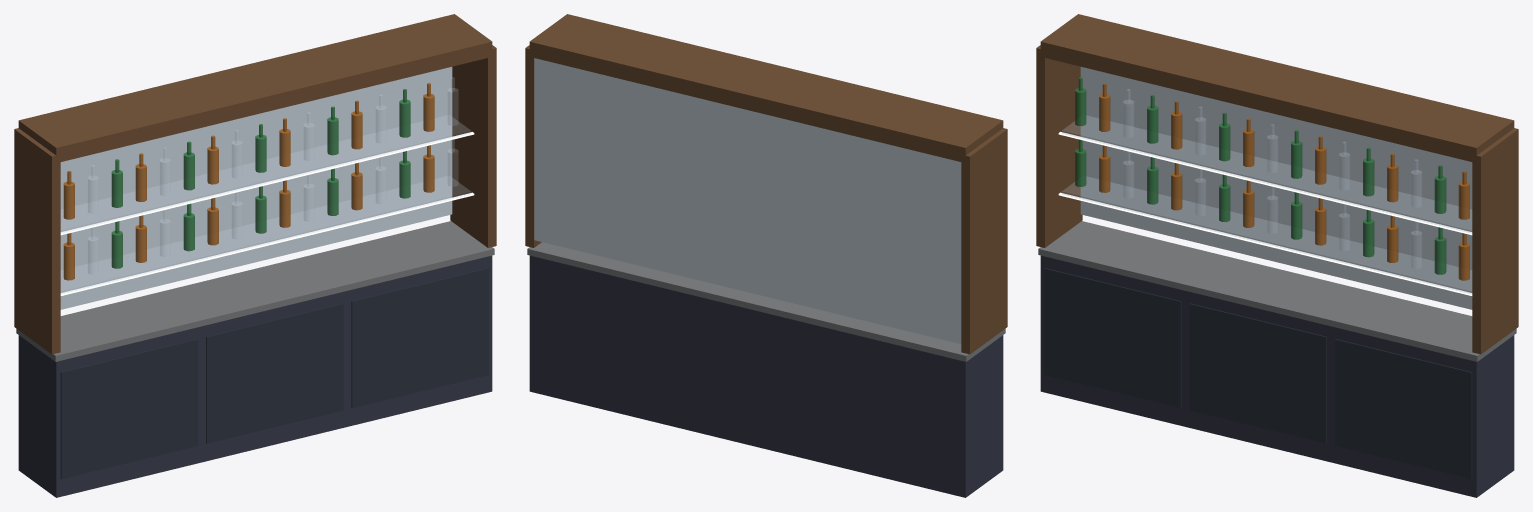
The model's file is hsp-014.glb.
The picture shows the model from 3 angles, left to right: view 1: azimuth 30°, elevation 25°; view 2: azimuth 150°, elevation 25°; view 3: azimuth 330°, elevation 25°; orthographic projection.
Visible parts, largest first — view 1: dark_steel, mirror, glass_tinted, walnut, glass_clear, stone_top, bottle_amber, bottle_green, lamp; view 2: mirror, dark_steel, walnut, stone_top; view 3: dark_steel, mirror, glass_tinted, walnut, glass_clear, stone_top, bottle_green, bottle_amber, lamp.
Part boxes in pixels (x1=…): dark_steel: x1=18, y1=255, x2=492, y2=497; mirror: x1=60, y1=67, x2=452, y2=309; glass_tinted: x1=60, y1=268, x2=488, y2=479; walnut: x1=14, y1=14, x2=496, y2=354; glass_clear: x1=61, y1=78, x2=470, y2=293; stone_top: x1=16, y1=221, x2=494, y2=361; bottle_amber: x1=63, y1=83, x2=434, y2=280; bottle_green: x1=111, y1=89, x2=410, y2=268; lamp: x1=60, y1=132, x2=474, y2=295; mirror: x1=534, y1=58, x2=961, y2=344; dark_steel: x1=529, y1=255, x2=1003, y2=497; walnut: x1=525, y1=14, x2=1007, y2=354; stone_top: x1=527, y1=242, x2=1005, y2=361; dark_steel: x1=1040, y1=255, x2=1514, y2=497; mirror: x1=1080, y1=67, x2=1472, y2=309; glass_tinted: x1=1044, y1=268, x2=1472, y2=479; walnut: x1=1036, y1=14, x2=1518, y2=354; glass_clear: x1=1062, y1=89, x2=1471, y2=293; stone_top: x1=1038, y1=221, x2=1516, y2=361; bottle_green: x1=1075, y1=77, x2=1446, y2=274; bottle_amber: x1=1099, y1=83, x2=1469, y2=280; lamp: x1=1058, y1=132, x2=1472, y2=295.
Bounding box in the file's own units: 3.06 × 2.3 × 0.47.
